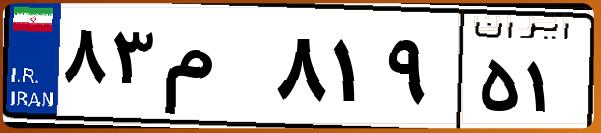1: (330, 28, 385, 110), (525, 38, 570, 115)
3: (110, 28, 158, 98)
5: (475, 38, 525, 113)
8: (270, 28, 330, 110), (57, 26, 110, 100)
9: (385, 28, 445, 110)
م: (158, 20, 270, 120)
